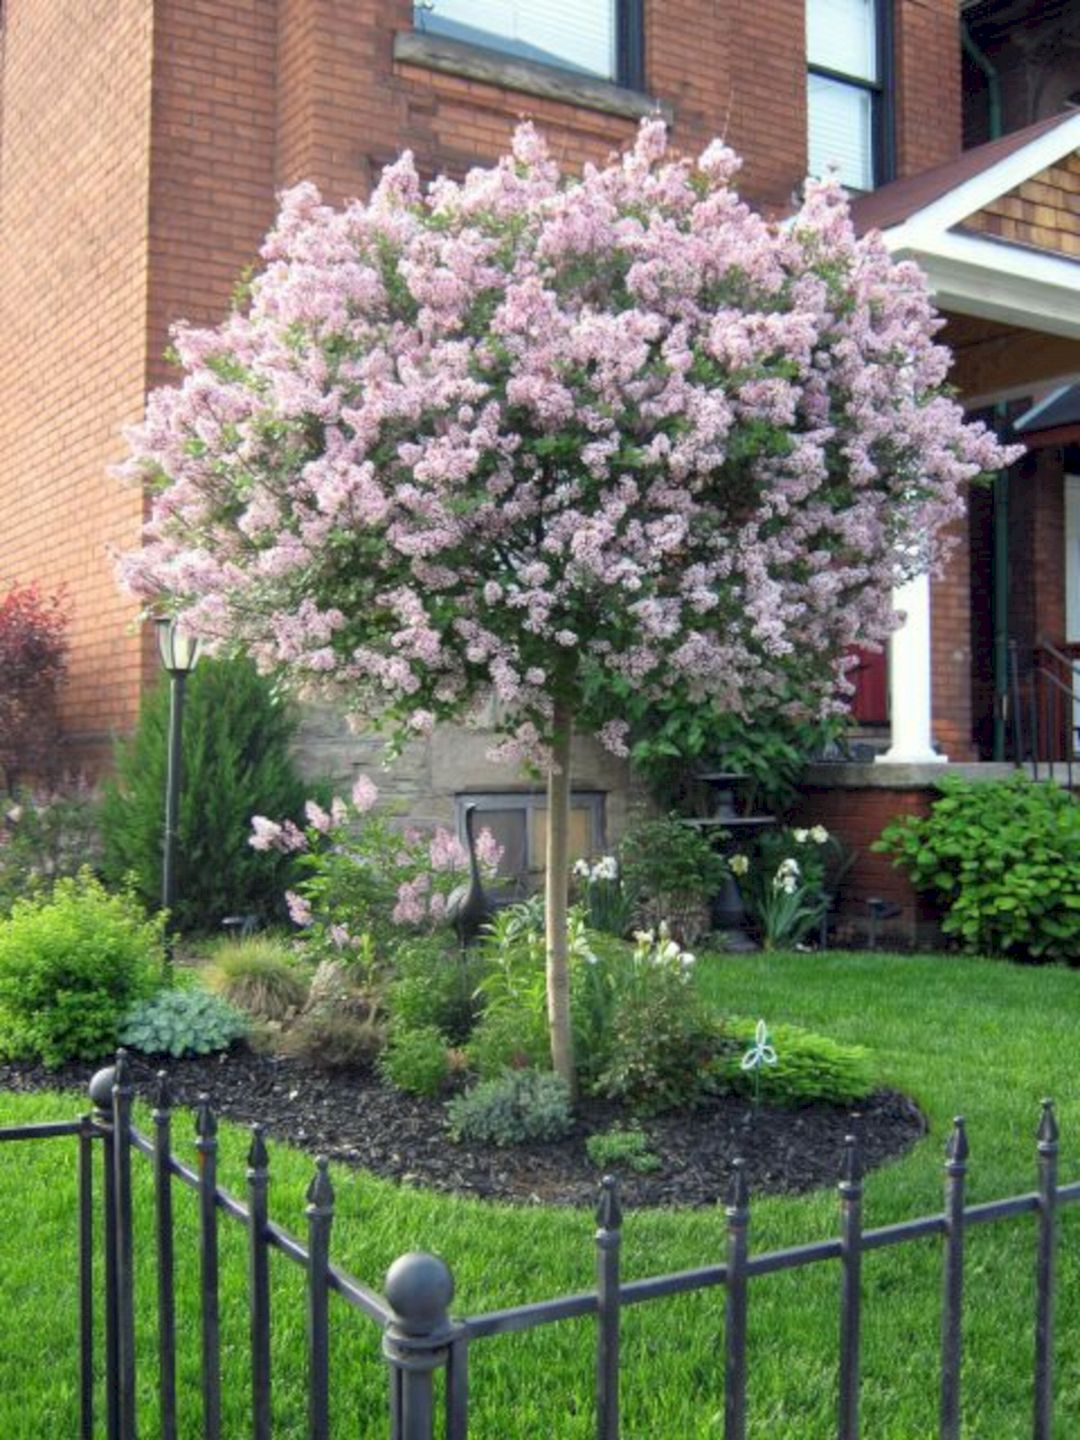tree: (145, 171, 972, 1090)
